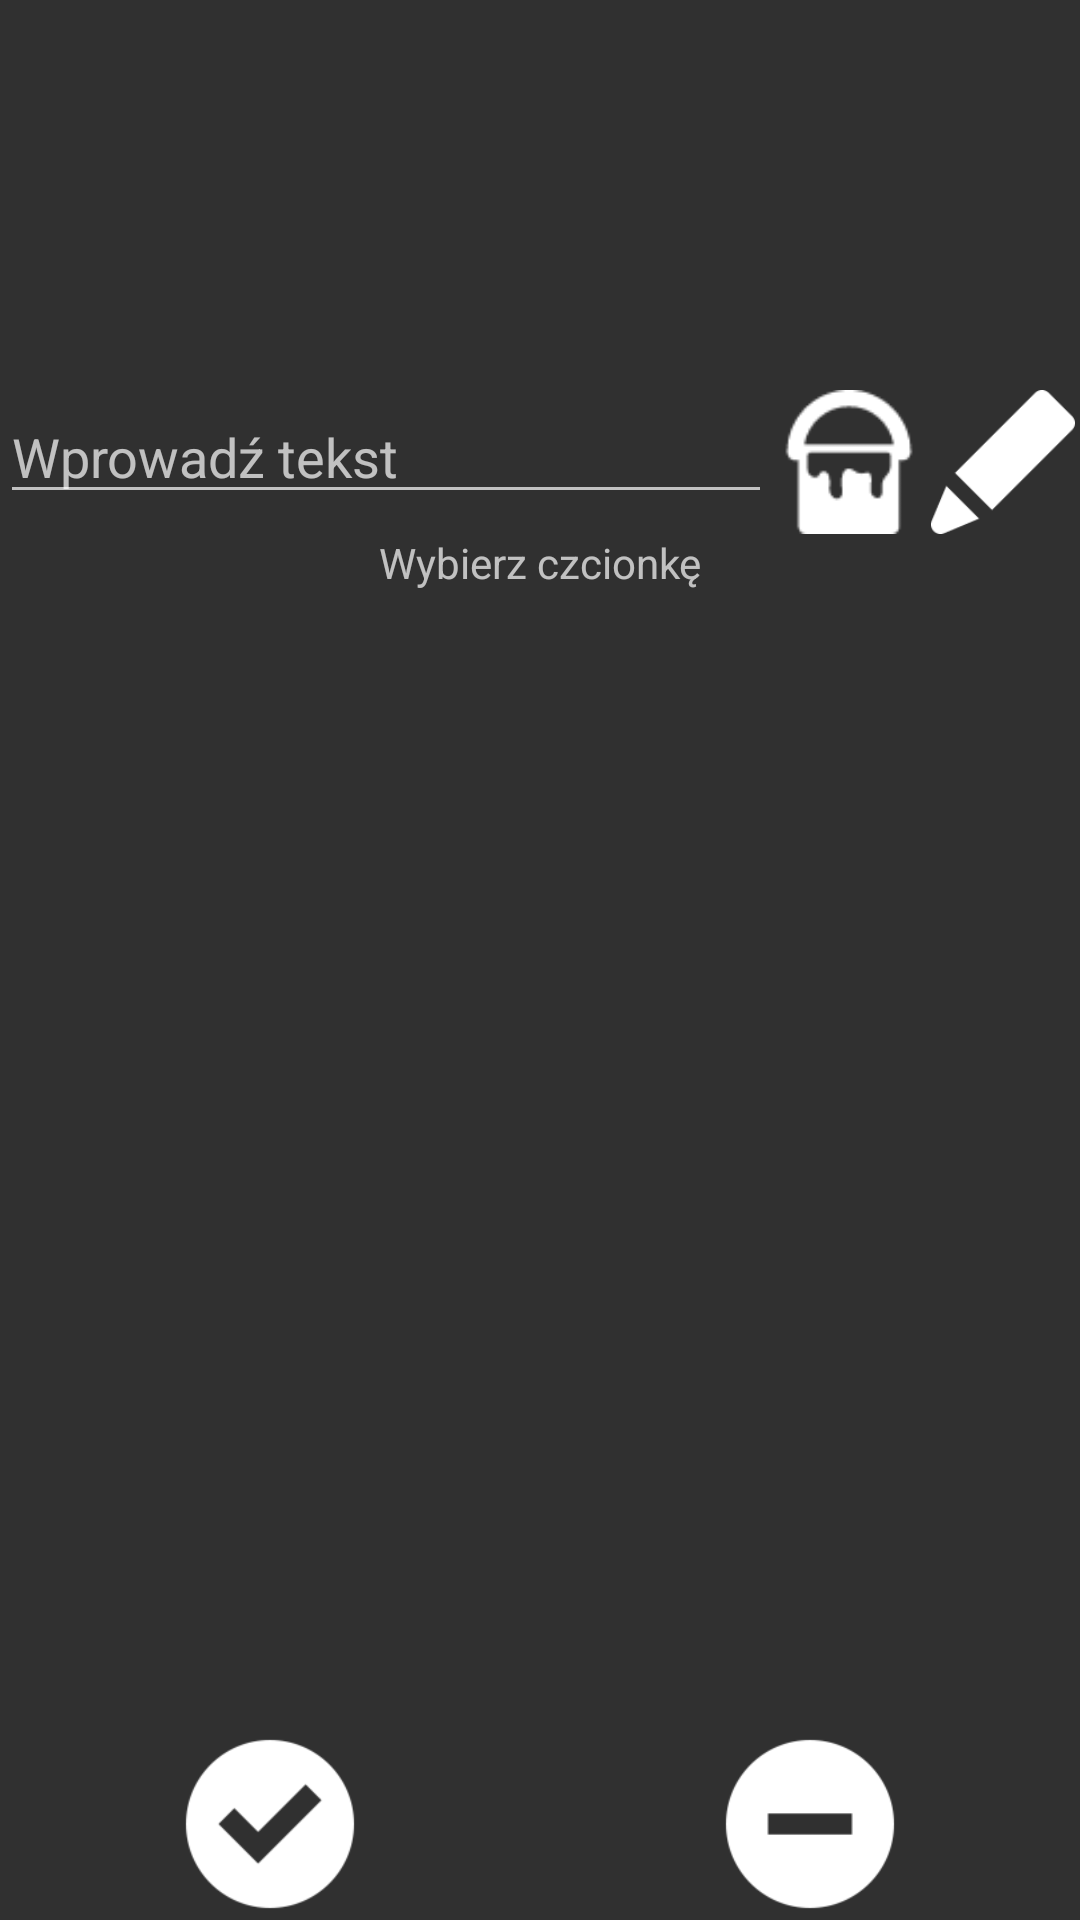

Icon bounding boxes for this 1080×1920 phone screenshot, format {"left": x1, "top": y1, "right": x2, "bottom": y2}:
accept: {"left": 185, "top": 1739, "right": 355, "bottom": 1909}
pen: {"left": 931, "top": 390, "right": 1075, "bottom": 534}
reject: {"left": 725, "top": 1739, "right": 895, "bottom": 1909}
